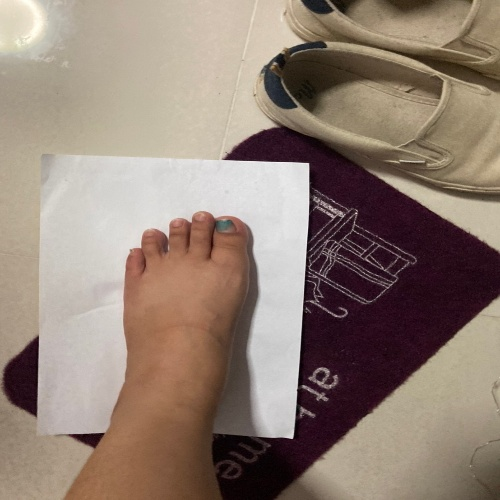Top_Foot: (19, 141, 322, 463)
